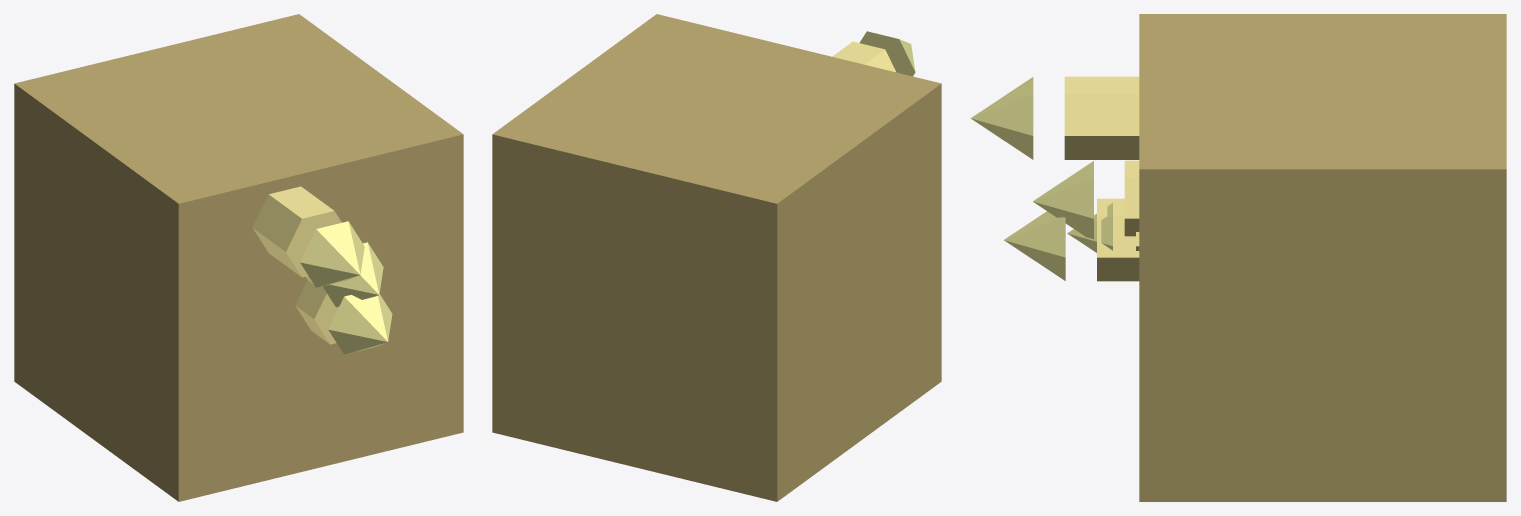
Rendered from 30_gold_vein.glb.
3 views of the same model, side by side, from view 1: azimuth 30°, elevation 25°; view 2: azimuth 150°, elevation 25°; view 3: azimuth 270°, elevation 25° (orthographic). The views are drawn at different scales.
Visible parts, largest first — view 1: RockShell, Ore_6_shaft, Ore_6_point, Ore_4_point, Ore_5_point, Ore_4_shaft; view 2: RockShell, Ore_6_point, Ore_6_shaft; view 3: RockShell, Ore_6_shaft, Ore_6_point, Ore_4_shaft, Ore_5_point, Ore_4_point, Ore_5_shaft, Ore_3_point.
Boxes of the visible parts, x1=… form: RockShell: x1=14, y1=14, x2=463, y2=501; Ore_6_shaft: x1=252, y1=186, x2=341, y2=277; Ore_6_point: x1=300, y1=221, x2=364, y2=287; Ore_4_point: x1=328, y1=294, x2=392, y2=354; Ore_5_point: x1=323, y1=242, x2=383, y2=307; Ore_4_shaft: x1=295, y1=280, x2=338, y2=344; RockShell: x1=492, y1=14, x2=941, y2=501; Ore_6_point: x1=859, y1=31, x2=915, y2=76; Ore_6_shaft: x1=832, y1=41, x2=895, y2=72; RockShell: x1=1139, y1=14, x2=1506, y2=501; Ore_6_shaft: x1=1064, y1=76, x2=1139, y2=159; Ore_6_point: x1=970, y1=77, x2=1033, y2=159; Ore_4_shaft: x1=1097, y1=198, x2=1139, y2=281; Ore_5_point: x1=1033, y1=161, x2=1093, y2=239; Ore_4_point: x1=1004, y1=211, x2=1065, y2=280; Ore_5_shaft: x1=1124, y1=160, x2=1139, y2=236; Ore_3_point: x1=1067, y1=203, x2=1112, y2=252.
Size of the model in its own units: 1.02 by 1.02 by 1.49.
